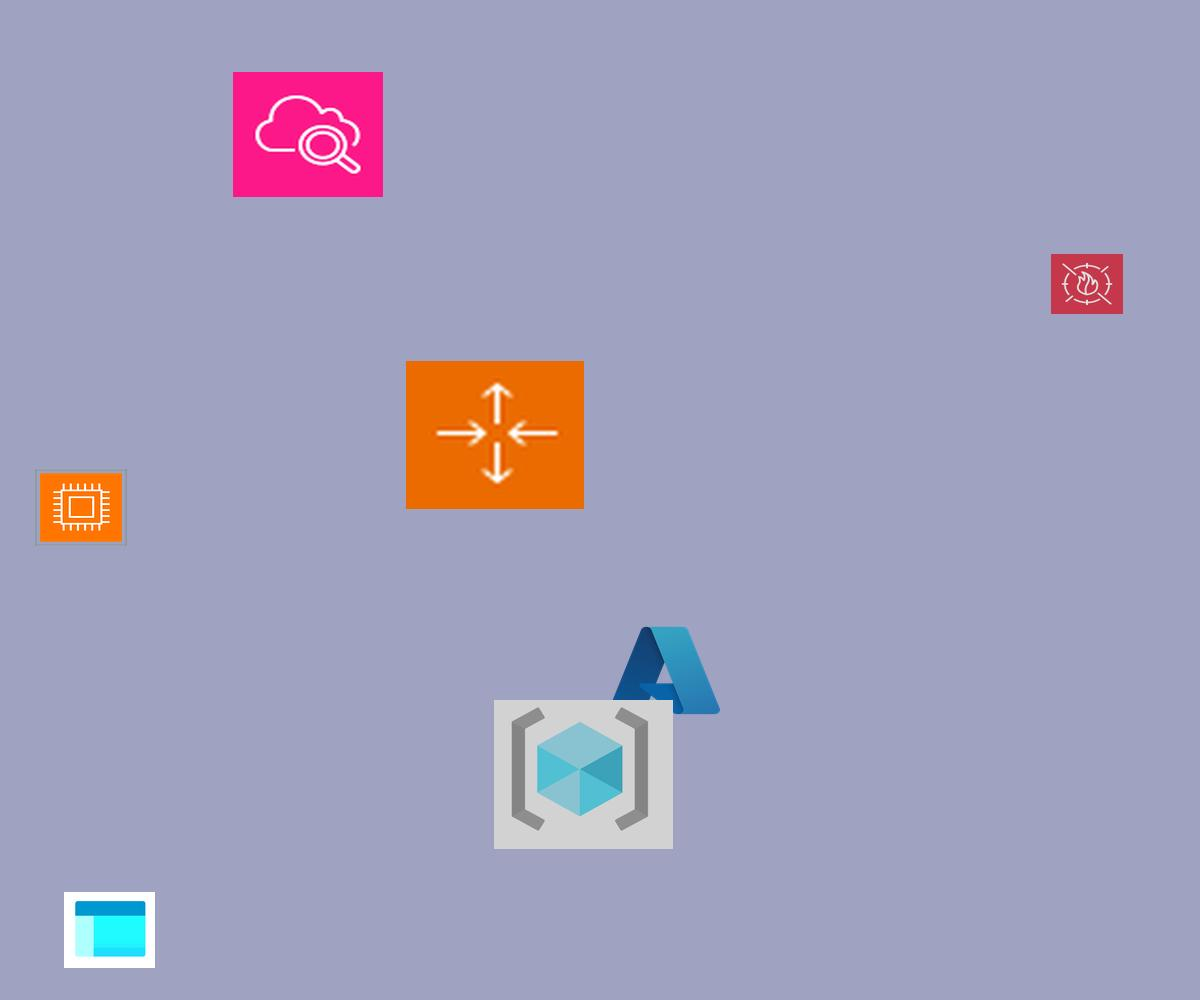AWS-Category_Compute: (35, 469, 127, 546)
AWS-CloudWatch: (233, 72, 383, 197)
AWS-Scaling-group: (406, 361, 584, 509)
AWS-WAF: (1051, 254, 1123, 314)
Azure_management-portal: (64, 892, 155, 968)
Azure_resource_group: (494, 700, 673, 849)
Azure_services: (604, 620, 725, 721)
